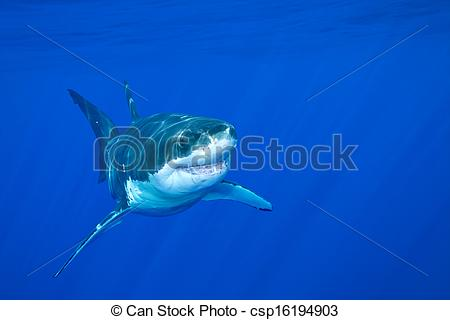shark: (36, 82, 293, 278)
